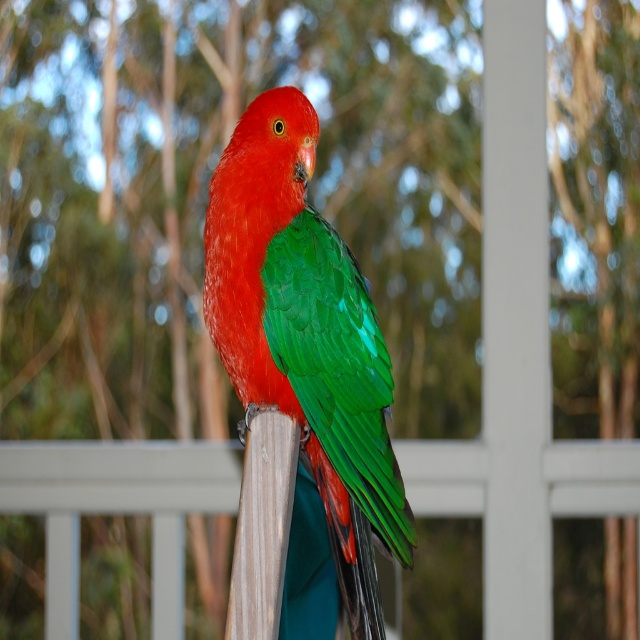Parrot: (203, 85, 418, 640)
